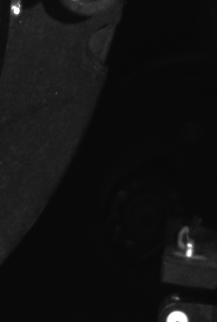fiber: (162, 304, 192, 322)
